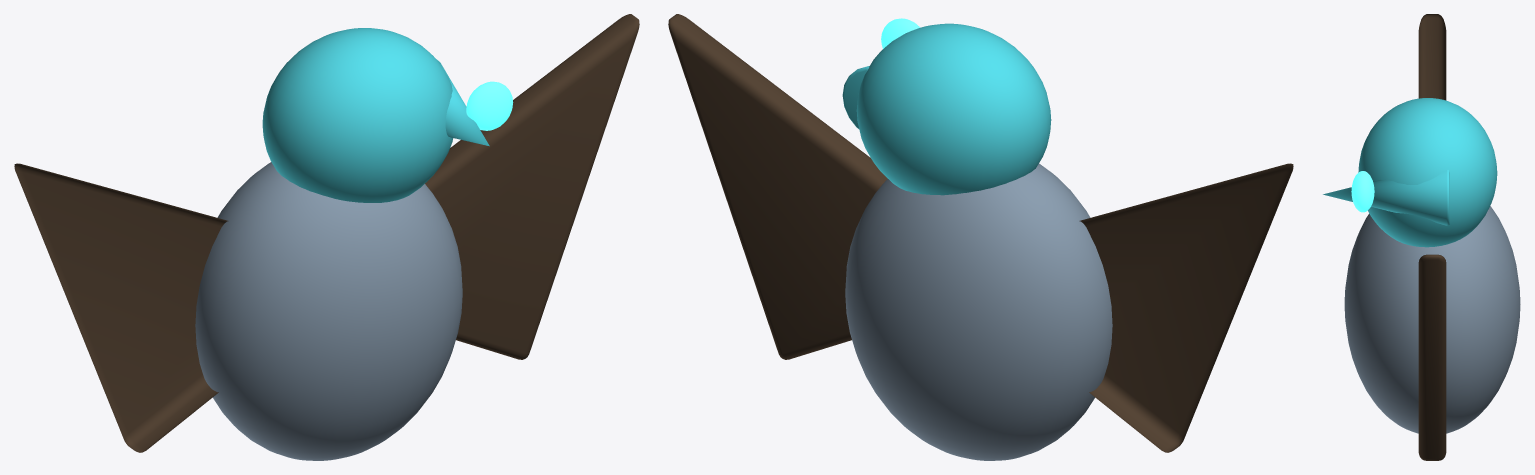
The model's file is avian.glb.
3 views of the same model, side by side, from view 1: azimuth 30°, elevation 25°; view 2: azimuth 150°, elevation 25°; view 3: azimuth 270°, elevation 25° (orthographic). The views are drawn at different scales.
Visible parts, largest first — view 1: BODY_PRIMARY, WING_R_SECONDARY, WING_L_SECONDARY, HEAD_ACCENT, EYE_EMISSIVE, BEAK_ACCENT; view 2: BODY_PRIMARY, WING_R_SECONDARY, WING_L_SECONDARY, HEAD_ACCENT, BEAK_ACCENT; view 3: BODY_PRIMARY, HEAD_ACCENT, WING_R_SECONDARY, BEAK_ACCENT, WING_L_SECONDARY, EYE_EMISSIVE.
Boxes of the visible parts, x1,y1,x2,y2 form: BODY_PRIMARY: [195, 162, 462, 460]; WING_R_SECONDARY: [425, 14, 639, 359]; WING_L_SECONDARY: [14, 163, 228, 452]; HEAD_ACCENT: [262, 28, 453, 202]; EYE_EMISSIVE: [466, 81, 513, 130]; BEAK_ACCENT: [436, 59, 489, 146]; BODY_PRIMARY: [845, 163, 1112, 460]; WING_R_SECONDARY: [668, 14, 887, 359]; WING_L_SECONDARY: [1079, 163, 1293, 452]; HEAD_ACCENT: [856, 23, 1051, 195]; BEAK_ACCENT: [842, 66, 869, 128]; BODY_PRIMARY: [1344, 206, 1520, 433]; HEAD_ACCENT: [1358, 98, 1497, 247]; WING_R_SECONDARY: [1418, 254, 1446, 460]; BEAK_ACCENT: [1323, 170, 1449, 225]; WING_L_SECONDARY: [1418, 14, 1446, 100]; EYE_EMISSIVE: [1351, 171, 1374, 212].
Bounding box in the file's own units: 2.48 × 1.58 × 0.855.
